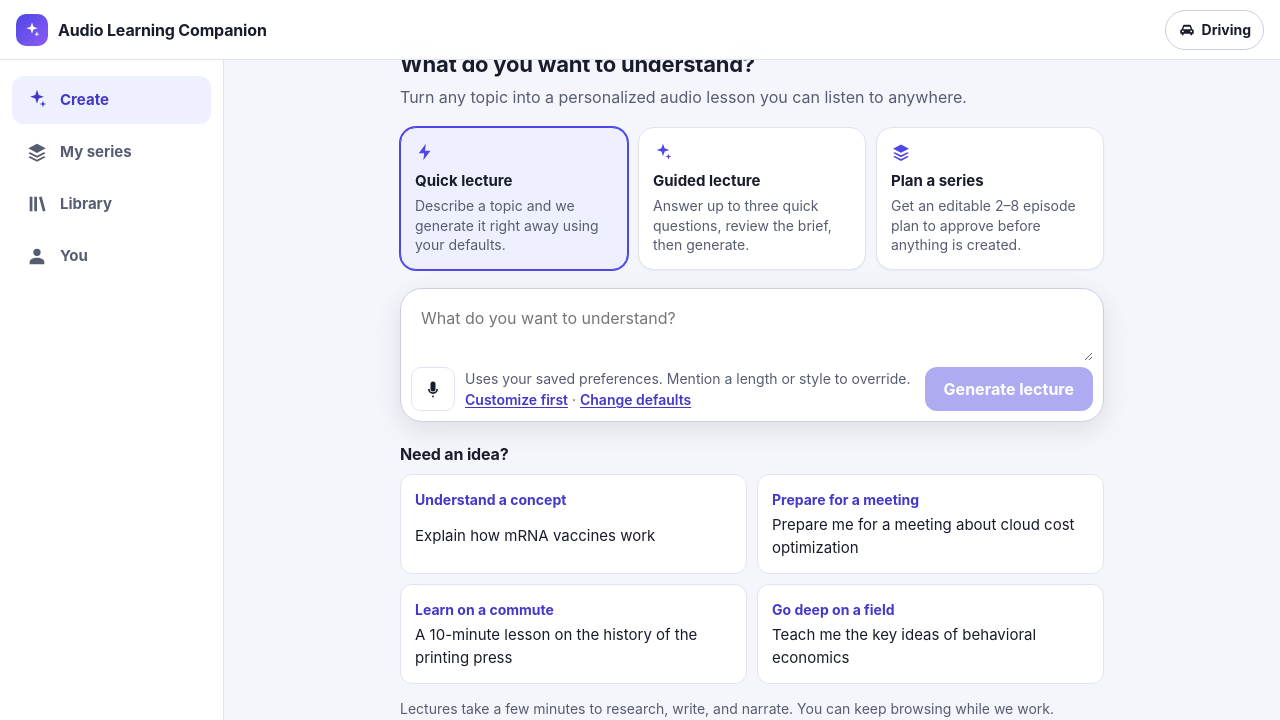
Scenario: authenticated › fails a data export visibly instead of downloading partial data
(page scrolled)
Expected: the navigation bar named "Primary" is shown, [0,60,224,719]
Click the button "You": (112, 256) [12,232,211,280]
(page scrolled)
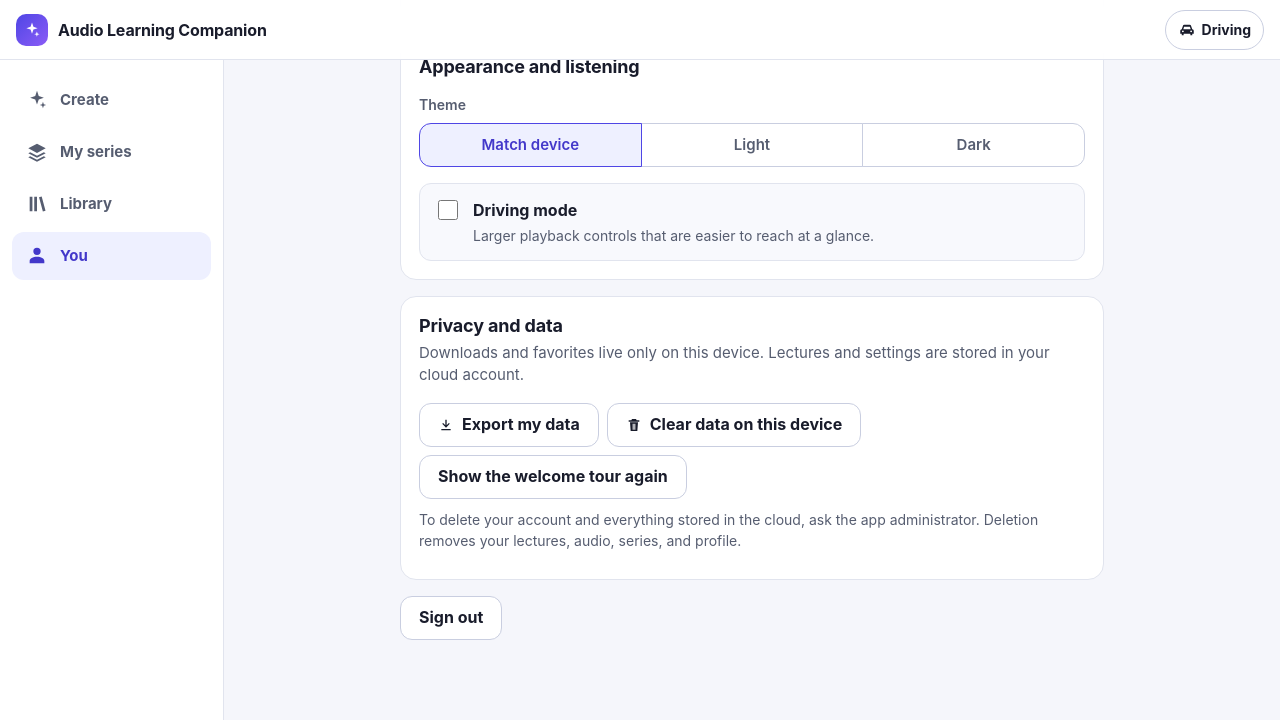
Click the button "Export my data": (509, 424) [419,402,599,446]
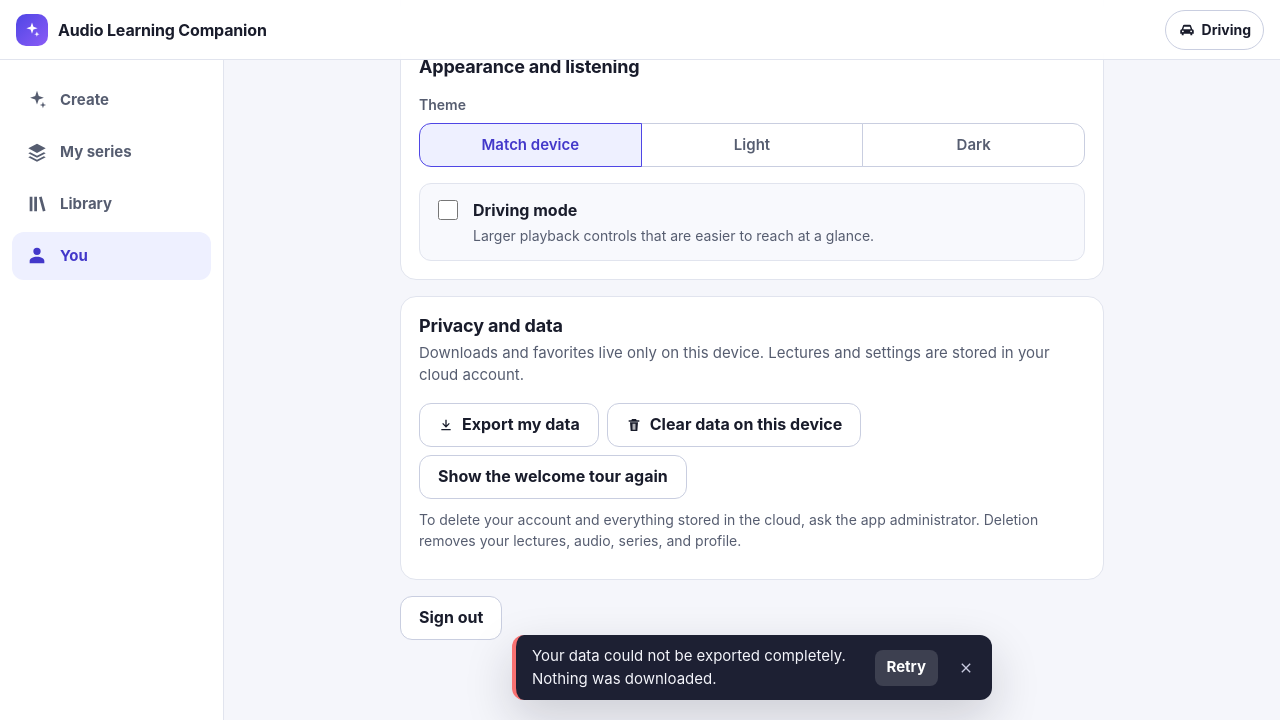
Result: the text "could not be exported completely" is shown at [532,646,846,688]
